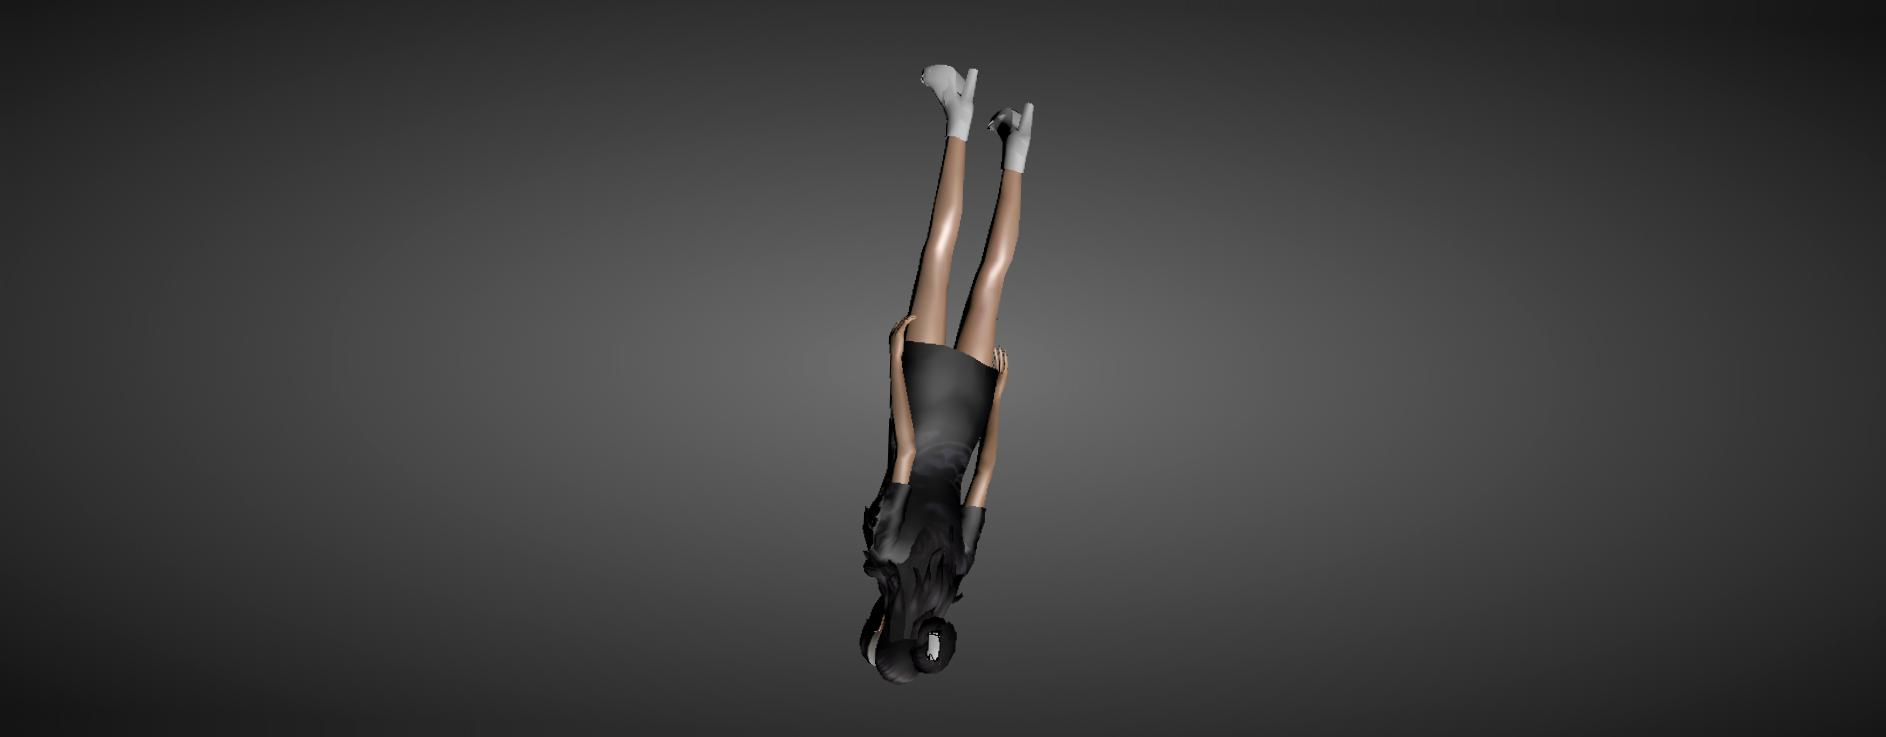clip: (919, 630, 953, 664)
